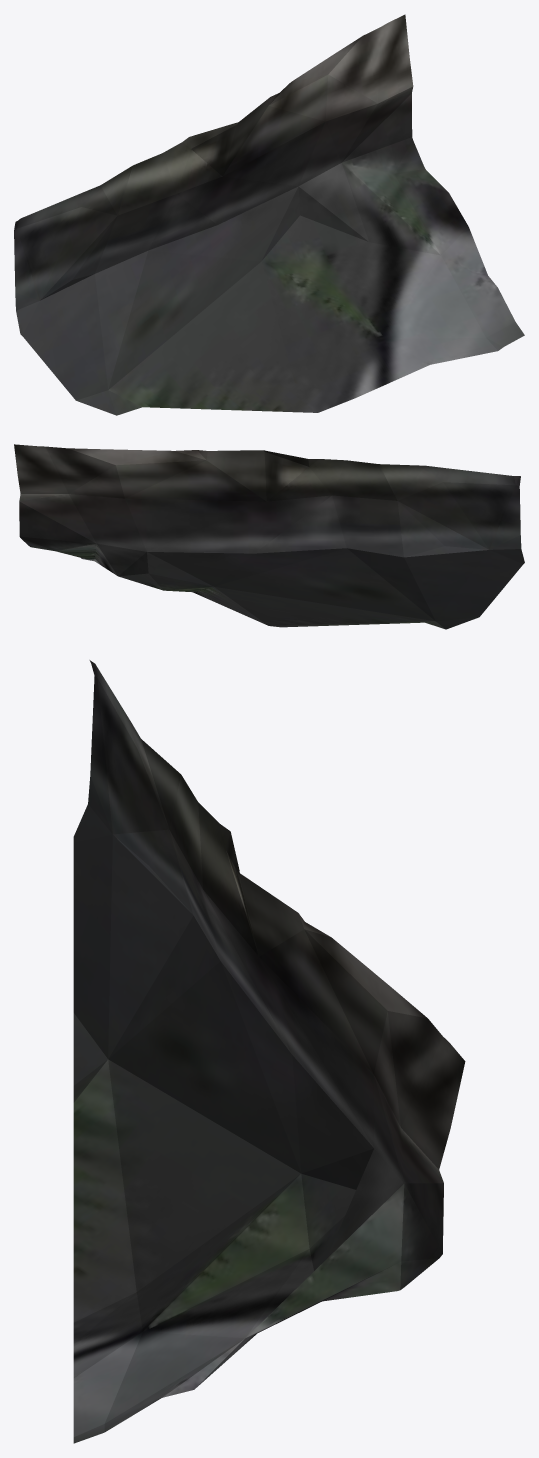
3 renders of one model, top to bottom at view 1: azimuth 30°, elevation 25°; view 2: azimuth 150°, elevation 25°; view 3: azimuth 270°, elevation 25°, orthographic. The views are drawn at different scales.
Size of the model in its own units: 1.67 by 0.8266 by 0.6878.
2 materials, 2 textured.
